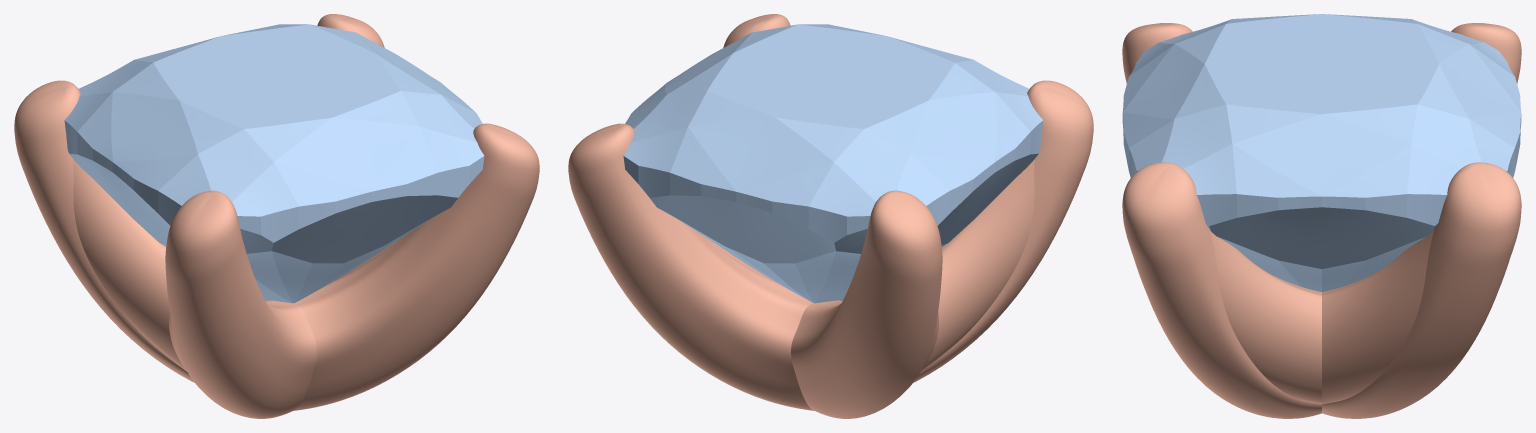
File: Cushion_Head_01.glb
3 views of the same model, side by side, from view 1: azimuth 30°, elevation 25°; view 2: azimuth 150°, elevation 25°; view 3: azimuth 270°, elevation 25° (orthographic). The views are drawn at different scales.
Visible parts, largest first — view 1: Diamond_Cushion Square, Cushion Head.3dm; view 2: Diamond_Cushion Square, Cushion Head.3dm; view 3: Diamond_Cushion Square, Cushion Head.3dm.
Boxes of the visible parts, x1,y1,x2,y2 form: Diamond_Cushion Square: (64,24,484,303); Cushion Head.3dm: (14,14,539,418); Diamond_Cushion Square: (623,24,1043,303); Cushion Head.3dm: (568,14,1093,418); Diamond_Cushion Square: (1122,14,1521,292); Cushion Head.3dm: (1122,23,1521,418).
Bounding box in the file's own units: 1.19 × 1.03 × 1.08.
